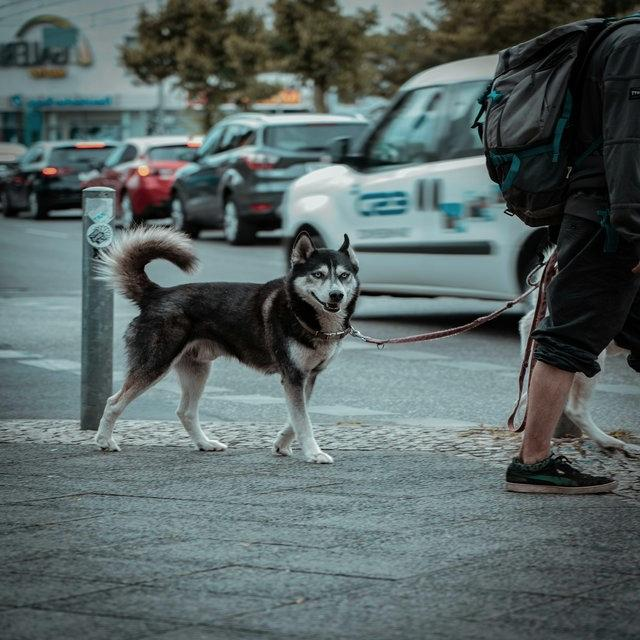husky: (91, 221, 363, 464)
